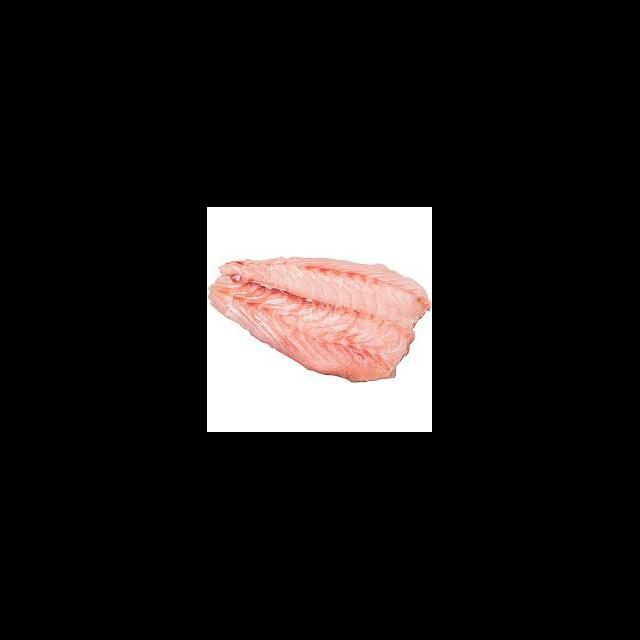fish: (208, 249, 432, 386)
